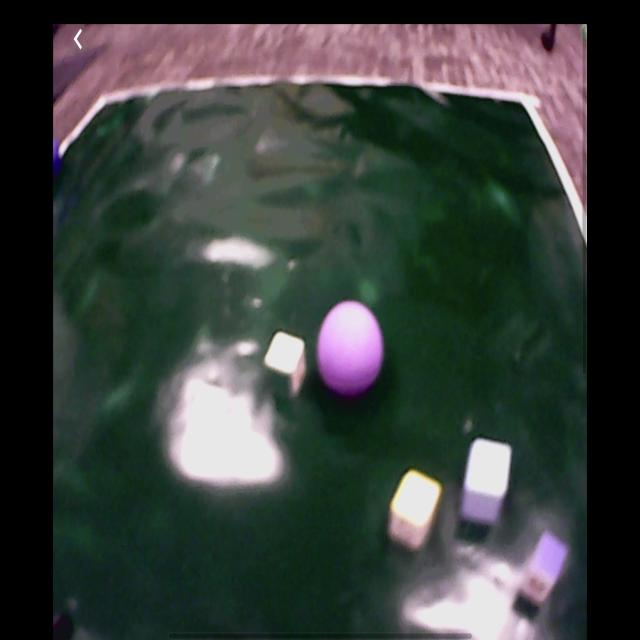ball: (318, 299, 384, 395), (56, 137, 60, 175)
